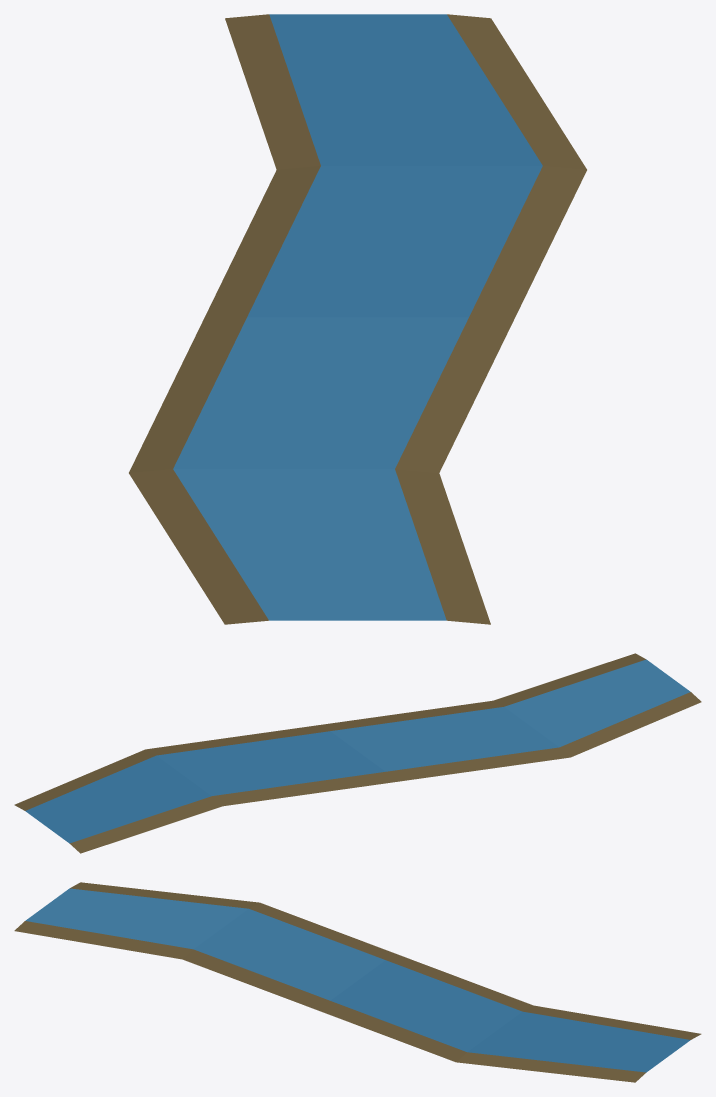
The model's file is River-BottomRight.glb.
3 renders of one model, top to bottom at view 1: azimuth 30°, elevation 25°; view 2: azimuth 150°, elevation 25°; view 3: azimuth 270°, elevation 25°, orthographic. The views are drawn at different scales.
Visible parts, largest first — view 1: River-BottomRight; view 2: River-BottomRight; view 3: River-BottomRight.
Part boxes in pixels (x1,y1,x2,y2): River-BottomRight: (129, 14, 586, 624); River-BottomRight: (14, 653, 701, 853); River-BottomRight: (14, 882, 701, 1082).
Size of the model in its own units: 0.6409 by 0.003 by 0.93.
